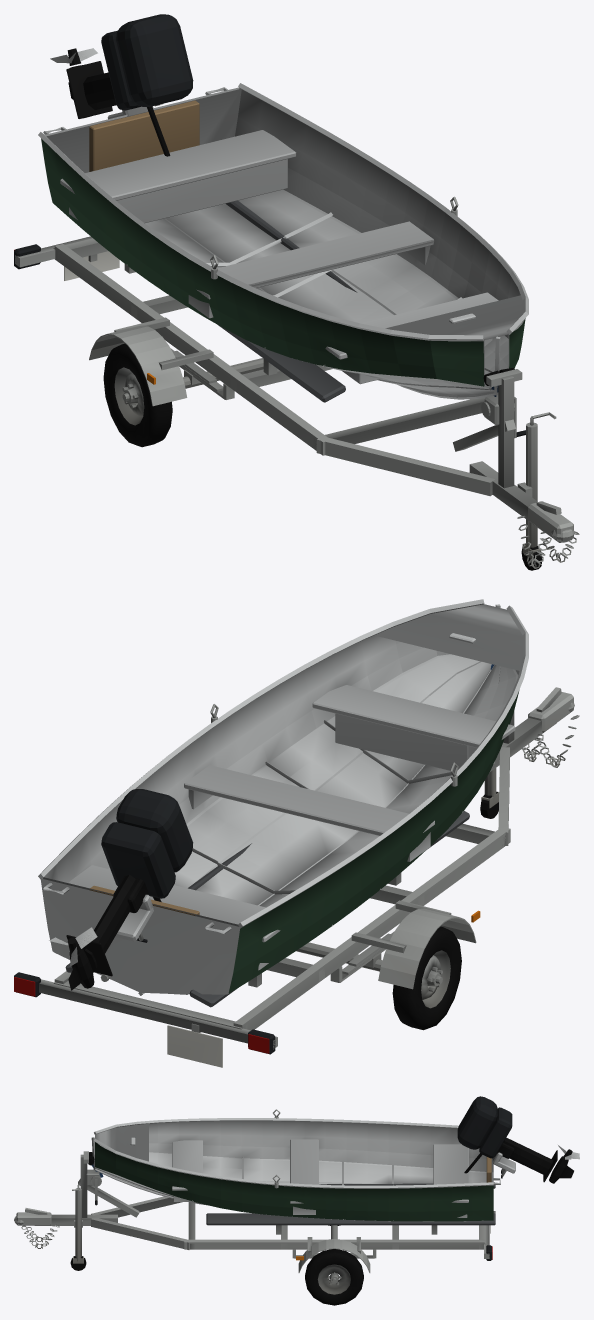
File: boat_trailer_hull.glb
3 renders of one model, top to bottom at view 1: azimuth 30°, elevation 25°; view 2: azimuth 150°, elevation 25°; view 3: azimuth 270°, elevation 25°, orthographic. The views are drawn at different scales.
Visible parts, largest first — view 1: boat_aluminium_hull_b_LOD0, boat_trailer_frame_LOD0, boat_outboard_LOD0, boat_trailer_wheel_l_LOD0, boat_trailer_winch_LOD0, boat_trailer_hitch_LOD0, boat_trailer_bunks_LOD0, boat_trailer_lights_LOD0; view 2: boat_aluminium_hull_b_LOD0, boat_trailer_frame_LOD0, boat_outboard_LOD0, boat_trailer_lights_LOD0, boat_trailer_wheel_l_LOD0, boat_trailer_hitch_LOD0, boat_trailer_bunks_LOD0; view 3: boat_aluminium_hull_b_LOD0, boat_trailer_frame_LOD0, boat_outboard_LOD0, boat_trailer_wheel_r_LOD0, boat_trailer_bunks_LOD0, boat_trailer_hitch_LOD0, boat_trailer_winch_LOD0.
Boxes of the visible parts, x1,y1,x2,y2 form: boat_aluminium_hull_b_LOD0: (38,83,528,399); boat_trailer_frame_LOD0: (53,238,543,531); boat_outboard_LOD0: (50,14,193,156); boat_trailer_wheel_l_LOD0: (103,343,172,447); boat_trailer_winch_LOD0: (453,368,525,488); boat_trailer_hitch_LOD0: (517,412,579,568); boat_trailer_bunks_LOD0: (217,200,357,402); boat_trailer_lights_LOD0: (14,236,119,280); boat_aluminium_hull_b_LOD0: (38,599,528,995); boat_trailer_frame_LOD0: (53,718,556,1030); boat_outboard_LOD0: (49,789,193,990); boat_trailer_lights_LOD0: (14,972,277,1067); boat_trailer_wheel_l_LOD0: (392,926,461,1030); boat_trailer_hitch_LOD0: (481,687,579,808); boat_trailer_bunks_LOD0: (65,811,469,1007); boat_aluminium_hull_b_LOD0: (91,1109,500,1221); boat_trailer_frame_LOD0: (35,1196,485,1272); boat_outboard_LOD0: (457,1096,579,1183); boat_trailer_wheel_r_LOD0: (305,1249,363,1305); boat_trailer_bunks_LOD0: (206,1182,495,1225); boat_trailer_hitch_LOD0: (14,1184,83,1263); boat_trailer_winch_LOD0: (78,1151,139,1217).
Size of what is drawn, in the model's own units: 1.9 by 1.62 by 5.09.
